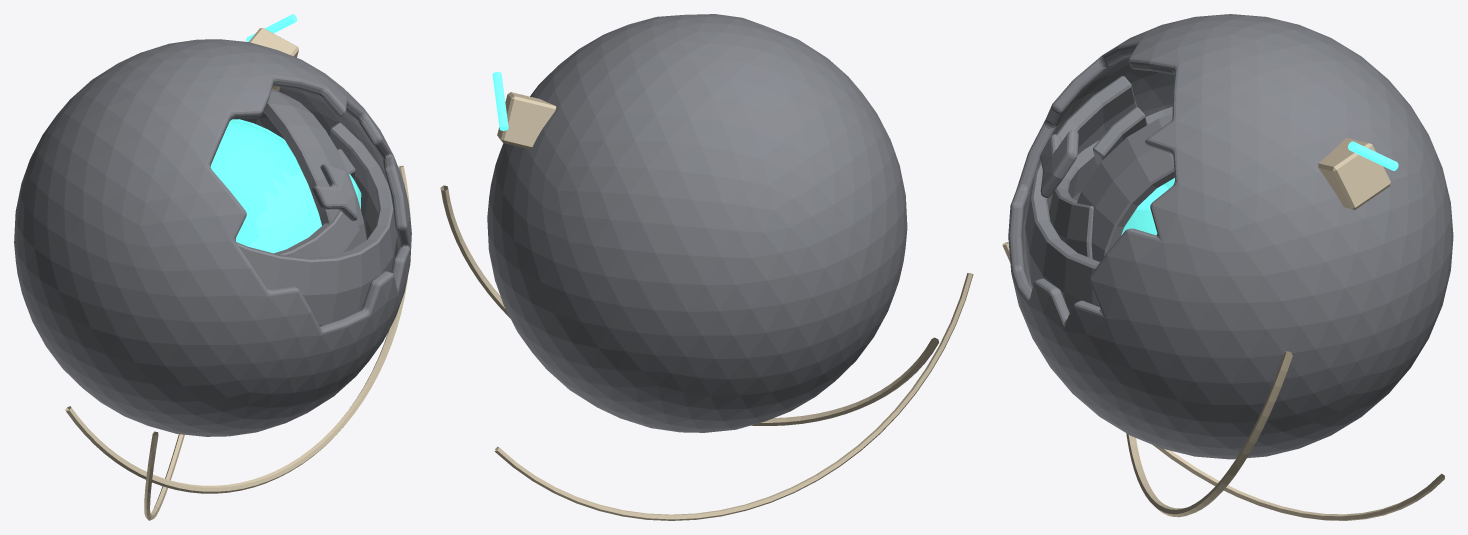
The model's file is taha-research-universe-signature-v3.glb.
The picture shows the model from 3 angles, left to right: view 1: azimuth 30°, elevation 25°; view 2: azimuth 150°, elevation 25°; view 3: azimuth 270°, elevation 25°; orthographic projection. The views are drawn at different scales.
Parts seen in each view (by area): view 1: Core_Shell, DASHBOARD_Shell, Core_Inner, VISPOL_Shell, Core_Ring_A, PARS_SQL_Shell, Core_Ring_B, VISPOL_Inner, Core_Accent; view 2: Core_Shell, Core_Ring_B, Core_Ring_A, Core_Accent; view 3: Core_Shell, DASHBOARD_Shell, VISPOL_Shell, PARS_SQL_Shell, Core_Accent, Core_Ring_A, Core_Ring_B, VISPOL_Inner.
Boxes of the visible parts, box(x1,y1,x2,y2) form: Core_Shell: box(14, 39, 411, 436); DASHBOARD_Shell: box(236, 123, 396, 326); Core_Inner: box(210, 120, 312, 251); VISPOL_Shell: box(239, 88, 366, 241); Core_Ring_A: box(65, 165, 410, 493); PARS_SQL_Shell: box(274, 210, 363, 257); Core_Ring_B: box(144, 431, 184, 520); VISPOL_Inner: box(266, 174, 361, 253); Core_Accent: box(246, 14, 298, 91); Core_Shell: box(487, 14, 907, 432); Core_Ring_B: box(494, 273, 973, 520); Core_Ring_A: box(440, 185, 938, 425); Core_Accent: box(492, 72, 556, 149); Core_Shell: box(1008, 14, 1453, 459); DASHBOARD_Shell: box(1025, 76, 1137, 312); VISPOL_Shell: box(1077, 114, 1174, 261); PARS_SQL_Shell: box(1049, 106, 1172, 258); Core_Accent: box(1318, 138, 1398, 209); Core_Ring_A: box(1126, 351, 1292, 517); Core_Ring_B: box(1002, 242, 1444, 520); VISPOL_Inner: box(1121, 209, 1157, 235).
Size of the model in its own units: 1.39 by 1.44 by 1.2.
